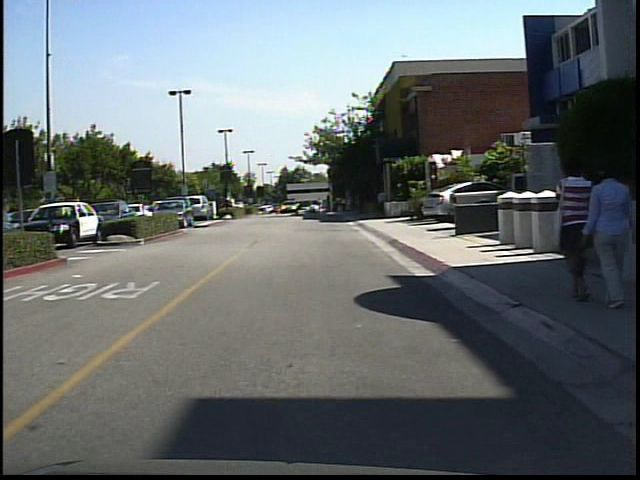person: (578, 158, 636, 309), (555, 151, 596, 305), (225, 191, 241, 219), (316, 196, 328, 222)
